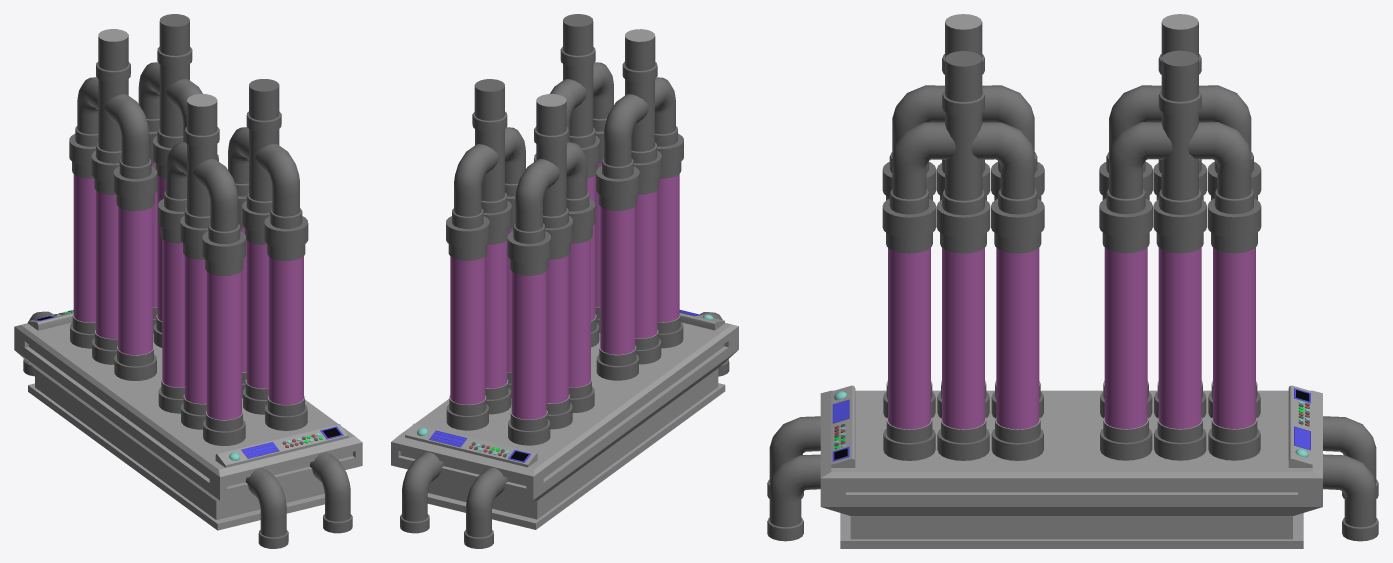
The model's file is lab_centrifuge_01.fbx.
The picture shows the model from 3 angles, left to right: view 1: azimuth 30°, elevation 25°; view 2: azimuth 150°, elevation 25°; view 3: azimuth 270°, elevation 25°; orthographic projection. The views are drawn at different scales.
Visible parts, largest first — view 1: lab_centrifuge_01; view 2: lab_centrifuge_01; view 3: lab_centrifuge_01.
Boxes of the visible parts, left/top/right/bottom form: lab_centrifuge_01: left=14, top=14, right=362, bottom=548; lab_centrifuge_01: left=391, top=14, right=738, bottom=548; lab_centrifuge_01: left=767, top=14, right=1378, bottom=548.
Size of the model in its own units: 2.17 by 5.65 by 6.6.
